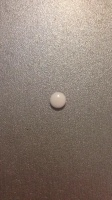Yuvarlak Buskopan: (49, 91, 67, 110)
